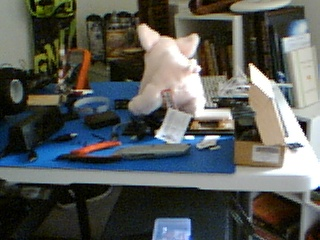piggy: (126, 22, 207, 116)
